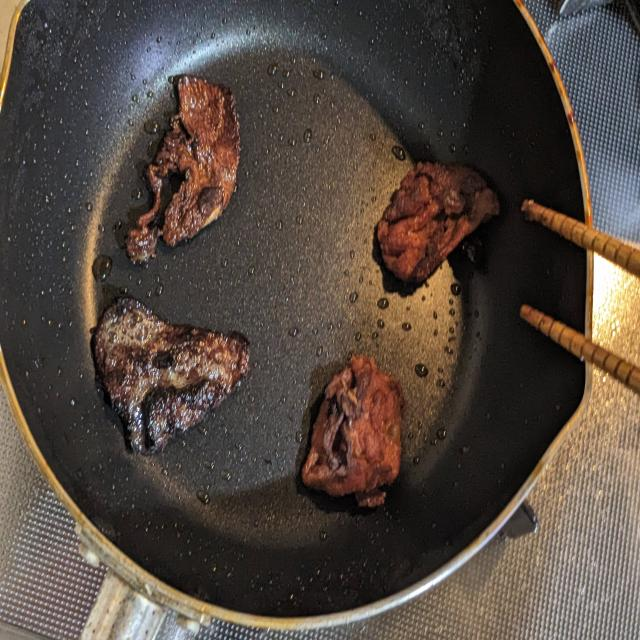overcooked beef,: (87, 284, 255, 457), (131, 58, 241, 266)
overcooked pork: (284, 343, 409, 519), (374, 152, 509, 294)
